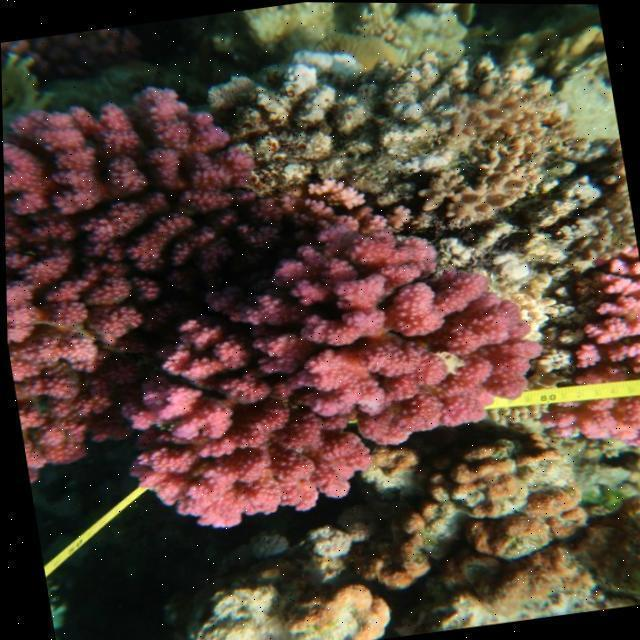Healthy Coral: (0, 77, 553, 534), (527, 245, 640, 449)
